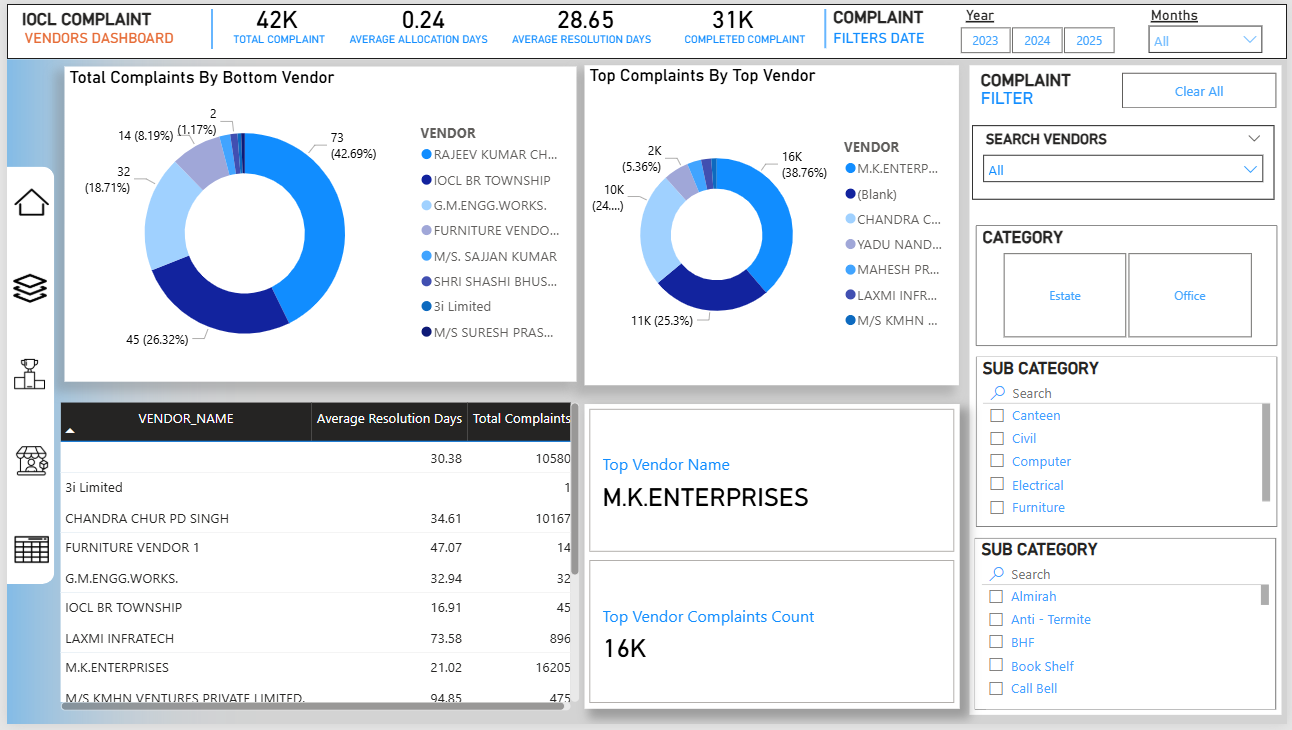

Layout of this report page (visuals, bound fields, positions):
{"tool":"powerbi","page":{"name":"Vendors","canvas":[1280,720],"ordinal":3},"visuals":[{"type":"shape","box":[0,0,1280,55.4],"z":0},{"type":"card","fields":{"Values":["Complaints.Total Complaints"]},"box":[176.6,0,187.8,29.1],"z":1000},{"type":"shape","box":[962,61.6,312.1,649.9],"z":2000},{"type":"slicer","fields":{"Values":["Complaints.COMPLAINT_DATE.Variation.Date Hierarchy.Year"]},"box":[927.8,16,203.8,37.6],"z":3000},{"type":"textbox","title":"TOTAL COMPLAINT","box":[221.6,29.1,116.4,19.7],"z":4000},{"type":"slicer","title":"CATEGORY","fields":{"Values":["Complaints.COMPLAINT_CATEGORY"]},"box":[969,221.1,301.4,121.1],"z":5000},{"type":"card","fields":{"Values":["Complaints.Average Allocation Days"]},"box":[322.1,0,187.8,29.1],"z":6000},{"type":"slicer","title":"SUB CATEGORY","fields":{"Values":["Complaints.COMPLAINT_SUB_CATEGORY"]},"box":[969,352,301.4,170.4],"z":7000},{"type":"textbox","title":"AVERAGE ALLOCATION DAYS","box":[338.1,29.1,155.9,19.7],"z":8000},{"type":"slicer","title":"SUB CATEGORY","fields":{"Values":["Complaints.COMPLAINT_SUB_SUB_CATEGORY"]},"box":[967.6,533.8,301.4,171.8],"z":9000},{"type":"card","fields":{"Values":["Complaints.Average Resolution Days"]},"box":[484.6,0,187.8,29.1],"z":10000},{"type":"textbox","title":"COMPLAINT ","box":[969.2,65.7,101.4,17.8],"z":11000},{"type":"shape","box":[0,162.5,47.5,417.5],"z":11000,"group":"g1"},{"type":"textbox","title":"AVERAGE RESOLUTION DAYS","box":[500.5,29.1,155.9,19.7],"z":12000},{"type":"textbox","title":"FILTER ","box":[969.2,83.6,108.9,20.7],"z":13000},{"type":"card","fields":{"Values":["Complaints.Completed Complaints"]},"box":[644.2,0,164.3,29.1],"z":14000},{"type":"textbox","title":"COMPLETED COMPLAINT","box":[672.4,29.1,136.2,19.7],"z":15000},{"type":"textbox","title":"IOCL COMPLAINT","box":[10.3,4.7,142.7,19.7],"z":16000},{"type":"textbox","title":"VENDORS DASHBOARD","box":[12,25,173,19],"z":17000},{"type":"shape","box":[726.9,4.7,184.1,39.4],"z":18000},{"type":"shape","box":[115.6,4.4,180,40],"z":19000},{"type":"slicer","fields":{"Values":["Complaints.COMPLAINT_DATE.Variation.Date Hierarchy.Month"]},"box":[1131.6,11.3,134.3,42.3],"z":20000},{"type":"textbox","title":"Months","box":[1138.2,2.8,61,16],"z":21000},{"type":"textbox","title":"Year","box":[953.2,2.8,61,16],"z":22000},{"type":"textbox","title":"COMPLAINT","box":[821.7,2.8,106.1,24.4],"z":23000},{"type":"actionButton","box":[7.1,182.9,34.3,31.4],"z":23000,"group":"g1"},{"type":"textbox","title":"FILTERS DATE","box":[821.7,24.4,106.1,19.7],"z":24000},{"type":"actionButton","box":[6.7,267.6,33.3,33.3],"z":24000,"group":"g1"},{"type":"actionButton","box":[6.7,354.2,33,33],"z":25000,"group":"g1"},{"type":"cardVisual","fields":{"Data":["Complaints.Top Vendor Name","Complaints.Top Vendor Complaints Count"]},"box":[578,400,375,305],"z":25000},{"type":"donutChart","title":"Top Complaints By Top Vendor","fields":{"Category":["Complaints.VENDOR_NAME"],"Y":["Complaints.Total Complaints"]},"box":[577.7,61.7,374.6,319.7],"z":26000},{"type":"actionButton","box":[8.7,440.5,32.7,33.3],"z":26000,"group":"g1"},{"type":"donutChart","title":"Total Complaints By Bottom Vendor","fields":{"Y":["Complaints.Total Complaints"],"Category":["Complaints.VENDOR_NAME"]},"box":[58,62,512,315],"z":27000},{"type":"actionButton","box":[7.1,527.1,34.3,35.7],"z":27000,"group":"g1"},{"type":"tableEx","fields":{"Values":["Complaints.VENDOR_NAME","Complaints.Average Resolution Days","Complaints.Total Complaints"]},"box":[48,394,530,318],"z":28000},{"type":"actionButton","box":[1115.6,68.9,154.4,35.6],"z":29000},{"type":"slicer","fields":{"Values":["Complaints.VENDOR_NAME"]},"box":[965,121,302,74],"z":30000},{"type":"group","id":"g1","title":"Group 2","box":[0,162.5,47.5,417.5],"z":31000}]}

Visuals, with their boxes in screenshot pixels (x1, y1, x2, y2), scaled from the page's 1280x720 canvas onto the 1292x730 screenshot:
shape: [x1=0, y1=0, x2=1291, y2=56]
card - Complaints.Total Complaints: [x1=178, y1=0, x2=368, y2=30]
shape: [x1=971, y1=62, x2=1286, y2=721]
slicer - Complaints.COMPLAINT_DATE.Variation.Date Hierarchy.Year: [x1=936, y1=16, x2=1142, y2=54]
"TOTAL COMPLAINT" textbox: [x1=224, y1=30, x2=341, y2=49]
"CATEGORY" slicer: [x1=978, y1=224, x2=1282, y2=347]
card - Complaints.Average Allocation Days: [x1=325, y1=0, x2=515, y2=30]
"SUB CATEGORY" slicer: [x1=978, y1=357, x2=1282, y2=530]
"AVERAGE ALLOCATION DAYS" textbox: [x1=341, y1=30, x2=499, y2=49]
"SUB CATEGORY" slicer: [x1=977, y1=541, x2=1281, y2=715]
card - Complaints.Average Resolution Days: [x1=489, y1=0, x2=679, y2=30]
"COMPLAINT " textbox: [x1=978, y1=67, x2=1081, y2=85]
shape: [x1=0, y1=165, x2=48, y2=588]
"AVERAGE RESOLUTION DAYS" textbox: [x1=505, y1=30, x2=663, y2=49]
"FILTER " textbox: [x1=978, y1=85, x2=1088, y2=106]
card - Complaints.Completed Complaints: [x1=650, y1=0, x2=816, y2=30]
"COMPLETED COMPLAINT" textbox: [x1=679, y1=30, x2=816, y2=49]
"IOCL COMPLAINT" textbox: [x1=10, y1=5, x2=154, y2=25]
"VENDORS DASHBOARD" textbox: [x1=12, y1=25, x2=187, y2=45]
shape: [x1=734, y1=5, x2=920, y2=45]
shape: [x1=117, y1=4, x2=298, y2=45]
slicer - Complaints.COMPLAINT_DATE.Variation.Date Hierarchy.Month: [x1=1142, y1=11, x2=1278, y2=54]
"Months" textbox: [x1=1149, y1=3, x2=1210, y2=19]
"Year" textbox: [x1=962, y1=3, x2=1024, y2=19]
"COMPLAINT" textbox: [x1=829, y1=3, x2=936, y2=28]
actionButton: [x1=7, y1=185, x2=42, y2=217]
"FILTERS DATE" textbox: [x1=829, y1=25, x2=936, y2=45]
actionButton: [x1=7, y1=271, x2=40, y2=305]
actionButton: [x1=7, y1=359, x2=40, y2=393]
cardVisual - Complaints.Top Vendor Name x Complaints.Top Vendor Complaints Count: [x1=583, y1=406, x2=962, y2=715]
"Top Complaints By Top Vendor" donutChart: [x1=583, y1=63, x2=961, y2=387]
actionButton: [x1=9, y1=447, x2=42, y2=480]
"Total Complaints By Bottom Vendor" donutChart: [x1=59, y1=63, x2=575, y2=382]
actionButton: [x1=7, y1=534, x2=42, y2=571]
tableEx - Complaints.VENDOR_NAME x Complaints.Average Resolution Days: [x1=48, y1=399, x2=583, y2=722]
actionButton: [x1=1126, y1=70, x2=1282, y2=106]
slicer - Complaints.VENDOR_NAME: [x1=974, y1=123, x2=1279, y2=198]
"Group 2" group: [x1=0, y1=165, x2=48, y2=588]
